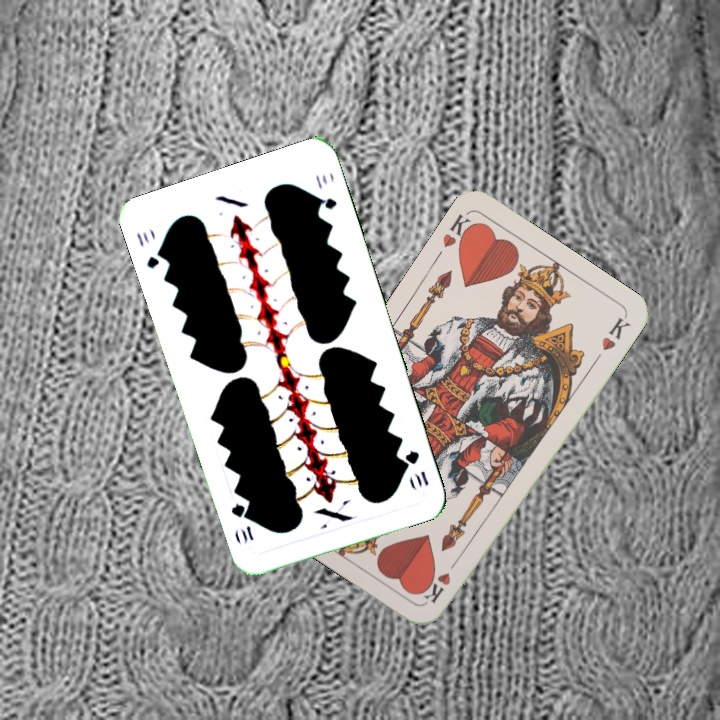G10: (132, 227, 167, 271), (401, 446, 431, 488)
HK: (421, 552, 463, 607), (438, 209, 480, 255)
